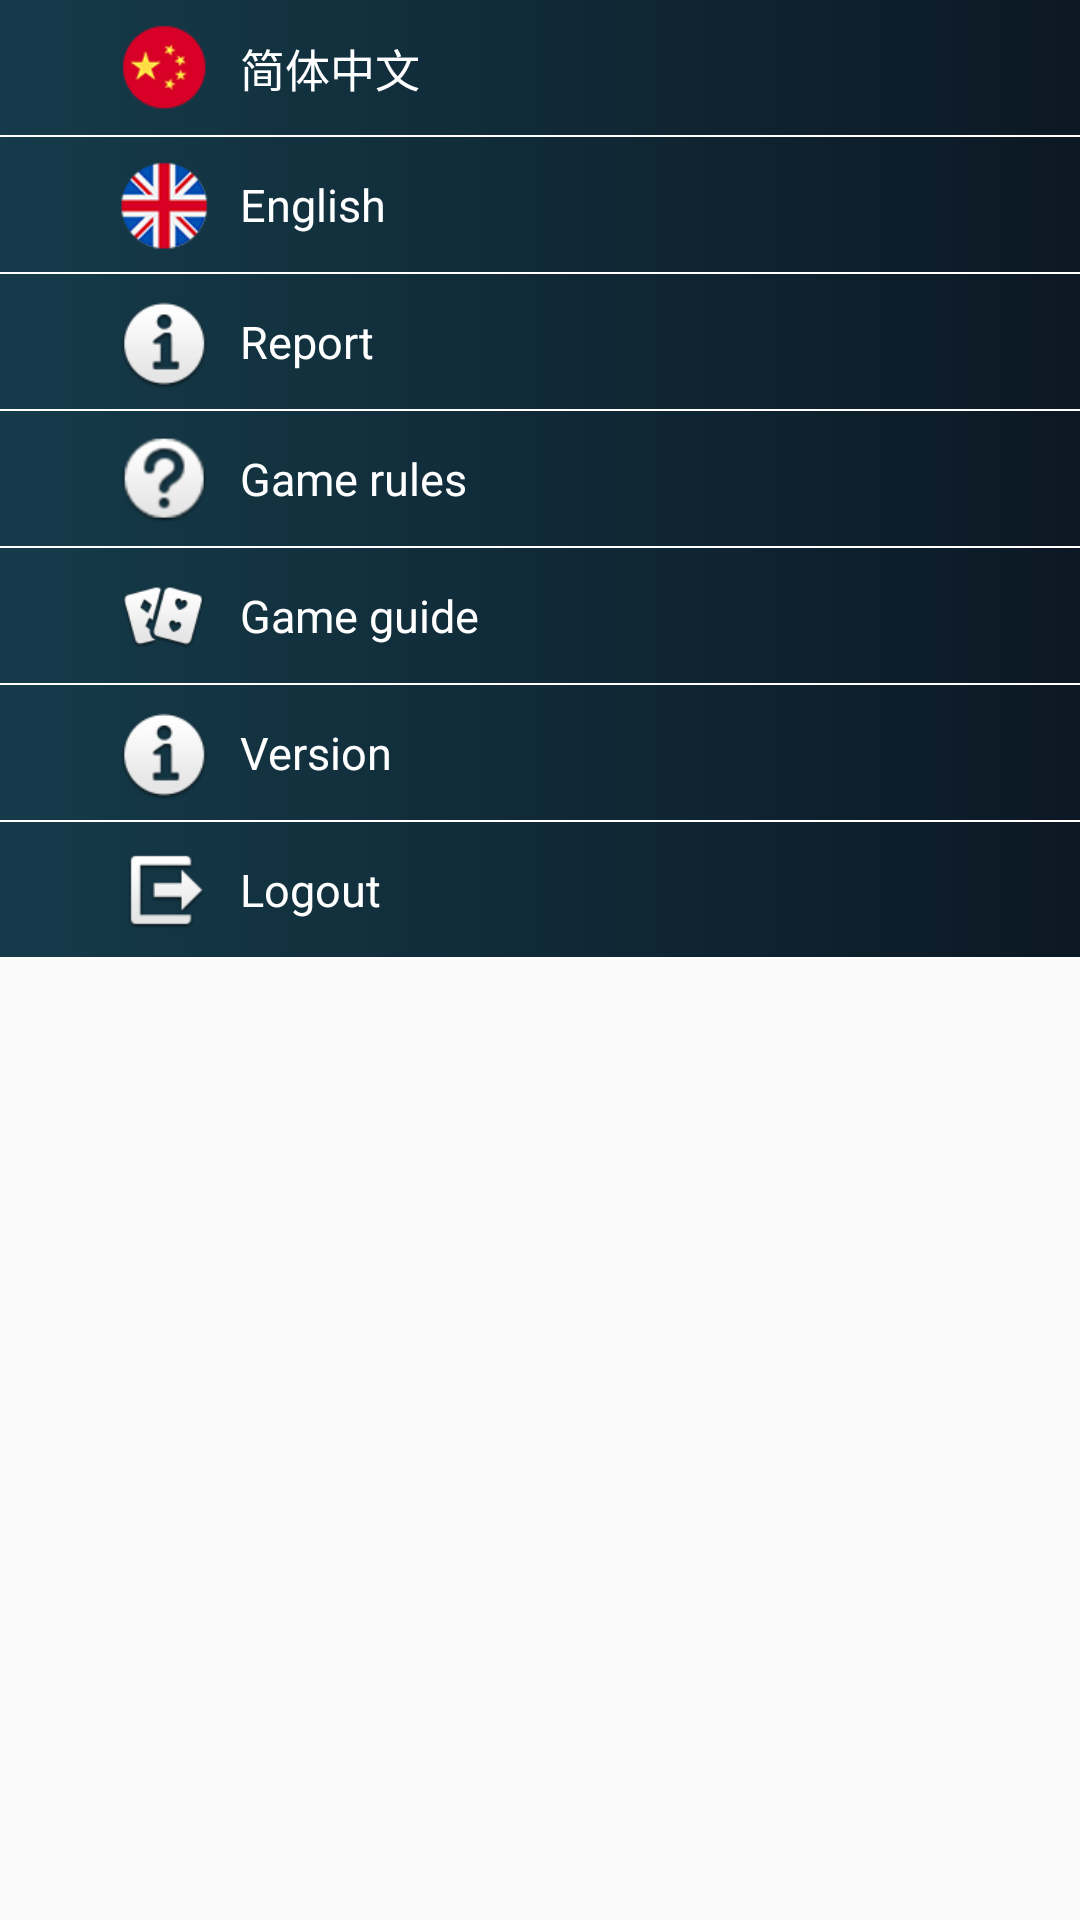

Where to tap for icons on this 1080px×1920px app screen, as (x,y):
side cn: (164,67)
side en: (164,206)
side exist: (166,890)
side rule: (164,478)
side ver: (164,343), (164,754)
